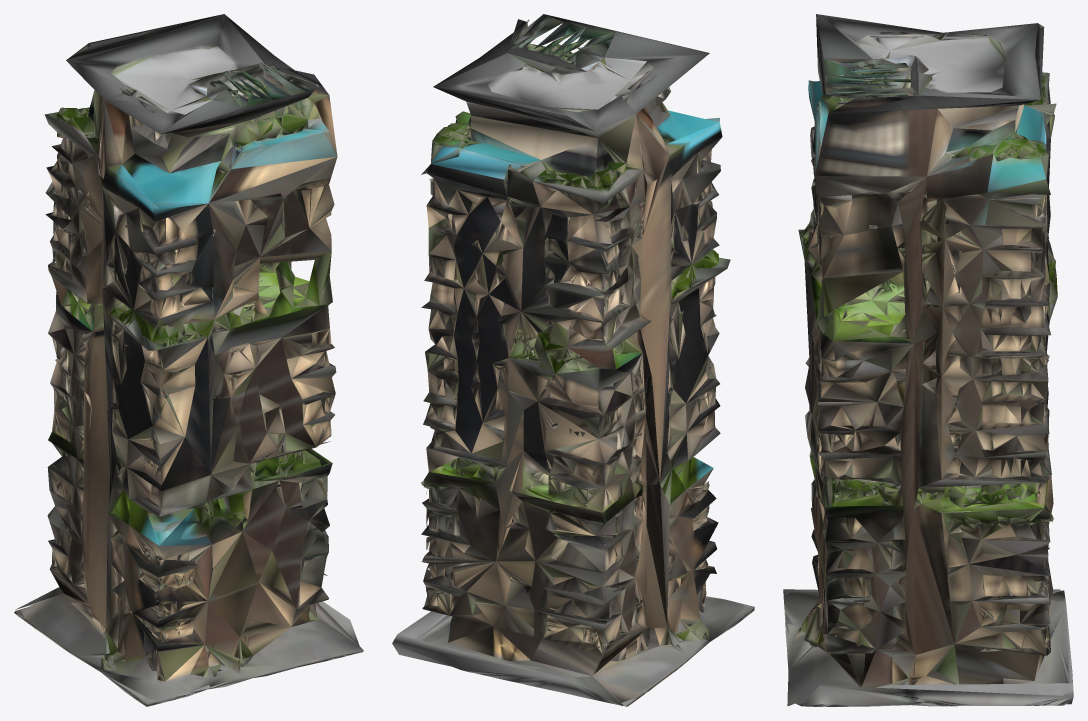
File: World05569d27b2.glb
The picture shows the model from 3 angles, left to right: view 1: azimuth 30°, elevation 25°; view 2: azimuth 150°, elevation 25°; view 3: azimuth 270°, elevation 25°; orthographic projection. The views are drawn at different scales.
Parts seen in each view (by area): view 1: World05569d27b2; view 2: World05569d27b2; view 3: World05569d27b2.
Part boxes in pixels (x1,y1,x2,y2): World05569d27b2: [14, 14, 363, 706]; World05569d27b2: [392, 14, 754, 706]; World05569d27b2: [783, 14, 1073, 706].
Size of the model in its own units: 2.96 by 7 by 3.08.
Materials: 1 (1 with a texture image).
